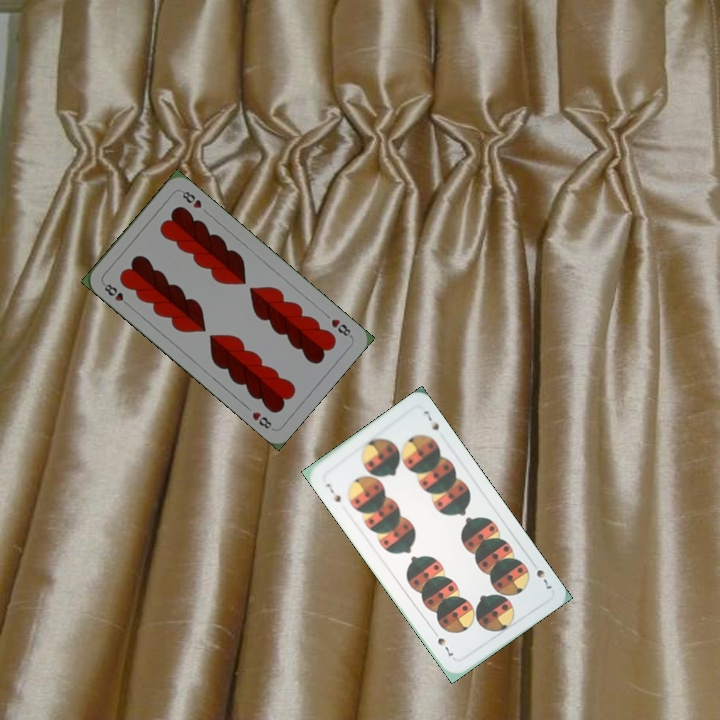H8: (99, 279, 133, 309), (327, 315, 355, 340)
S7: (532, 565, 555, 593), (322, 479, 343, 505)
